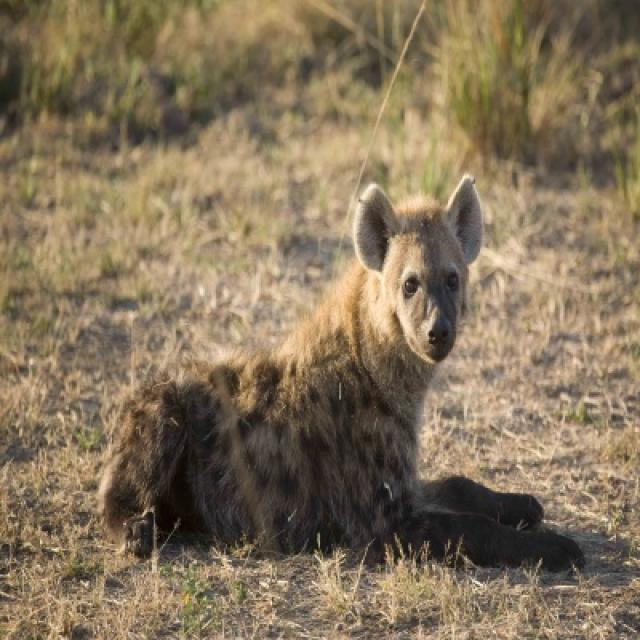hyena: (99, 173, 582, 570)
